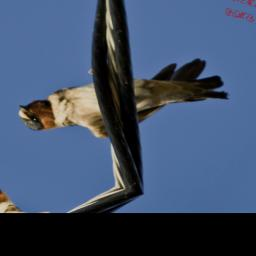Swallow: (5, 22, 248, 173)
